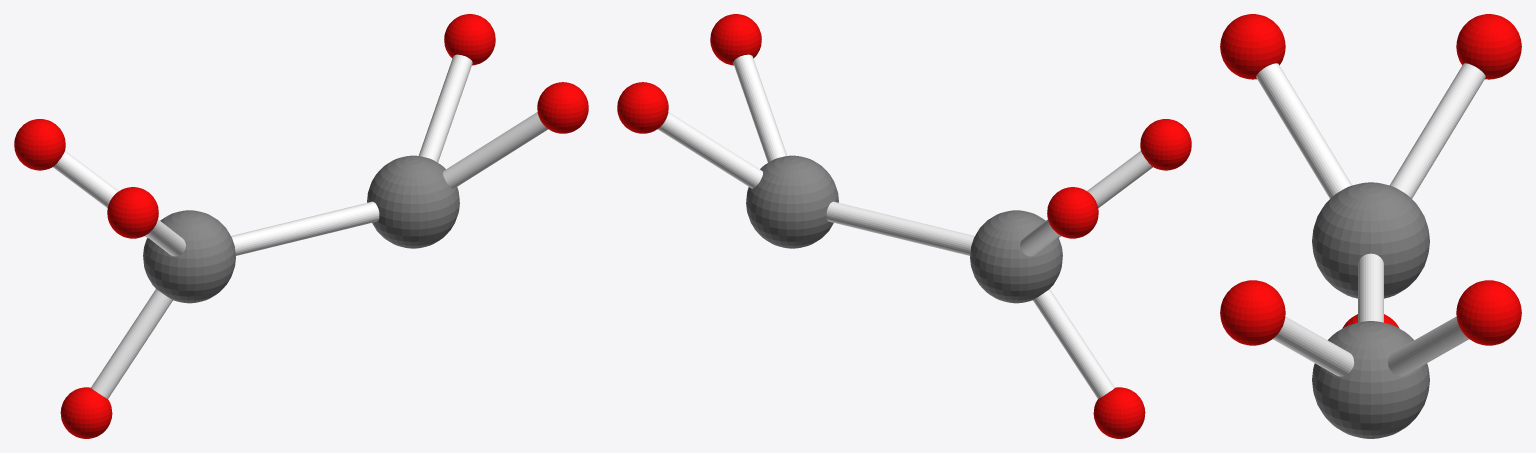
The picture shows the model from 3 angles, left to right: view 1: azimuth 30°, elevation 25°; view 2: azimuth 150°, elevation 25°; view 3: azimuth 270°, elevation 25°; orthographic projection. The views are drawn at different scales.
Parts seen in each view (by area): view 1: Sphere; view 2: Sphere; view 3: Sphere.
Part boxes in pixels (left/top/right/bottom): Sphere: left=14, top=14, right=588, bottom=438; Sphere: left=617, top=14, right=1191, bottom=438; Sphere: left=1220, top=14, right=1521, bottom=438.
Bounding box in the file's own units: 0.318 × 0.18 × 0.138.
